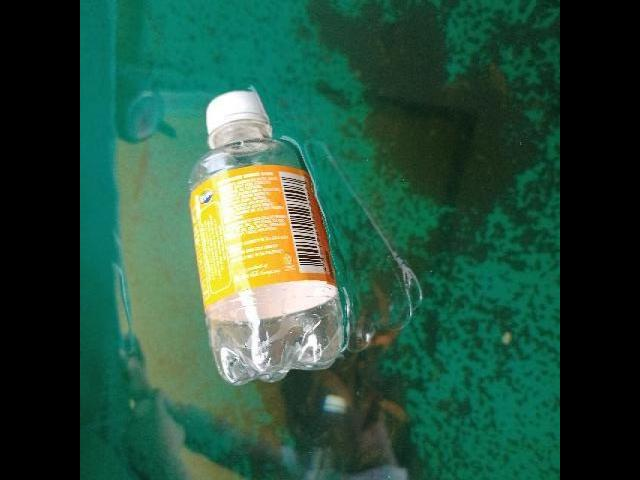Bottle: (180, 78, 352, 390)
